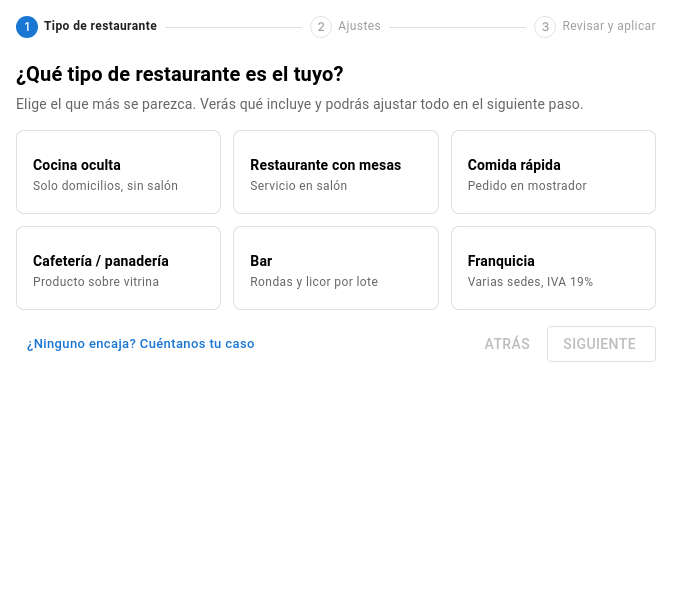
Test: Modo prueba — Paso 3 › muestra los 3 bloques de información del preview
What coordinates should you click on to do the following:
click the text "Comida rápida"
I would click on:
 (514, 165)
Its box is [468,157,561,173].
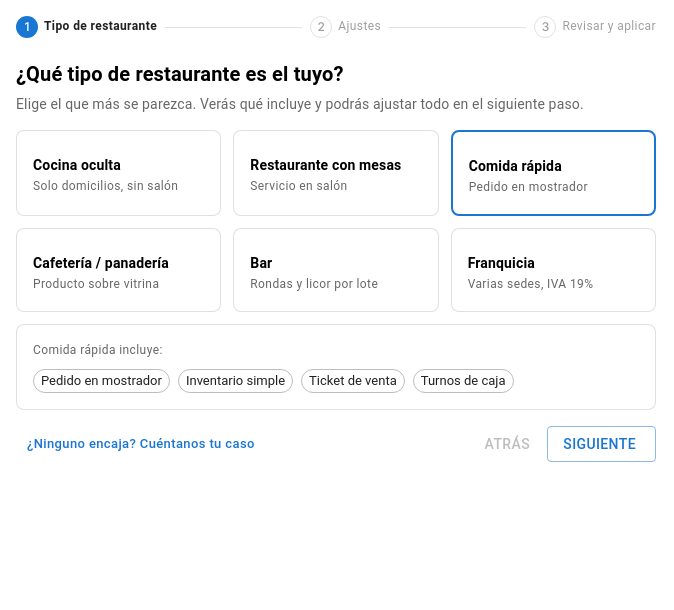
What coordinates should you click on to do the following:
click the button "Siguiente"
I would click on:
 (602, 444)
Its box is [547,426,656,462].
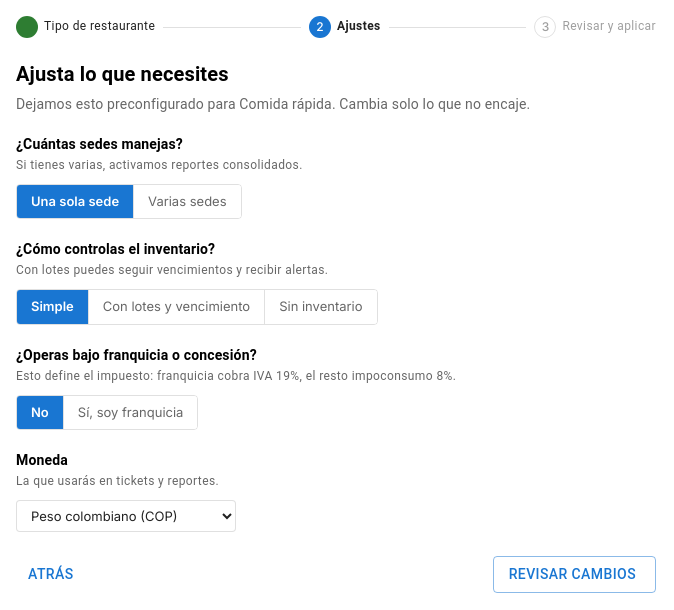
What coordinates should you click on to do the following:
click the button "Revisar cambios"
I would click on:
 (574, 574)
Its box is [493,556,656,593].
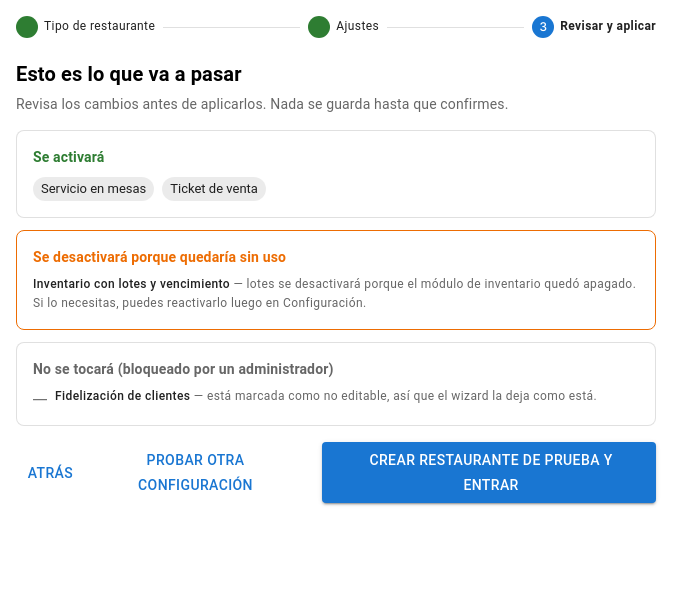
expect the button "Crear restaurante de prueba y entrar" is shown: met, box [322,442,656,503]
expect the text "Se activará" is shown: met, box [33,147,104,167]
expect the text "Se desactivará porque quedaría sin uso" is shown: met, box [33,247,286,267]
